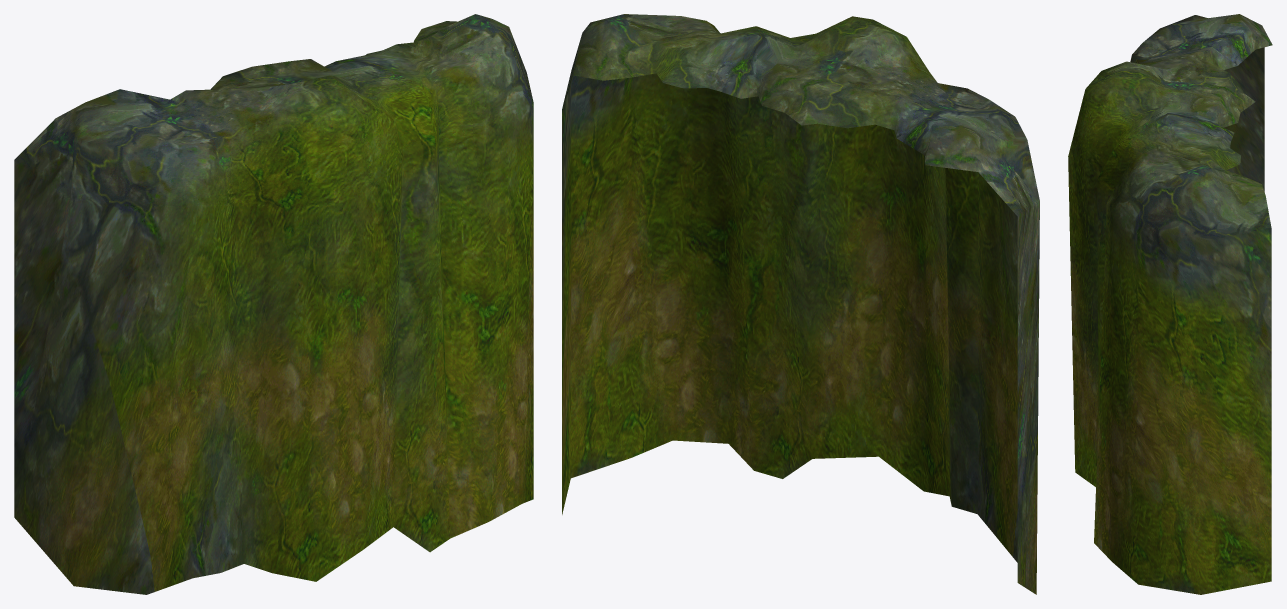
File: 10204_ground03.FBX
3 views of the same model, side by side, from view 1: azimuth 30°, elevation 25°; view 2: azimuth 150°, elevation 25°; view 3: azimuth 270°, elevation 25° (orthographic). The views are drawn at different scales.
Parts seen in each view (by area): view 1: 10204_ground03; view 2: 10204_ground03; view 3: 10204_ground03.
Part boxes in pixels (box(x1,y1,x2,y2)): 10204_ground03: box(14, 14, 533, 594); 10204_ground03: box(562, 14, 1039, 594); 10204_ground03: box(1068, 14, 1272, 594).
Size of the model in its own units: 819 by 786 by 344.
